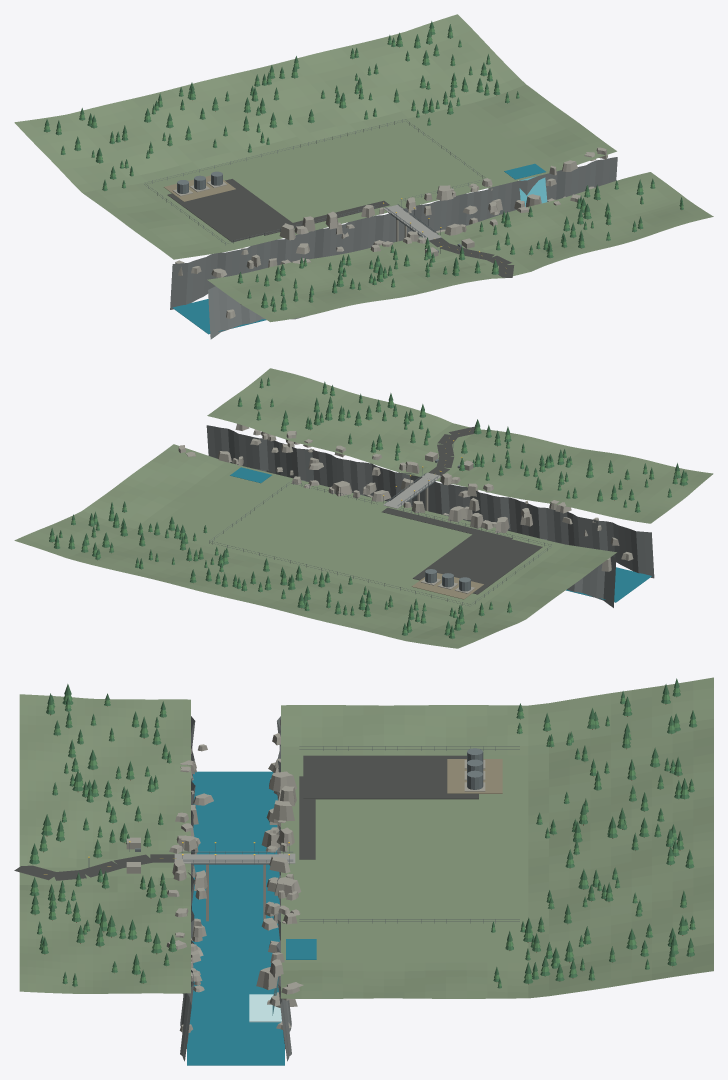
The model's file is Chimera_Environment_Proxies.fbx.
3 views of the same model, one above another, from view 1: azimuth 30°, elevation 25°; view 2: azimuth 150°, elevation 25°; view 3: azimuth 270°, elevation 25° (orthographic). The views are drawn at different scales.
Parts seen in each view (by area): view 1: ENV_TERRAIN_NORTH__WAREHOUSE_PLATEAU, ENV_TERRAIN_SOUTH__APPROACH_PLATEAU, ENV_CLIFF_NORTH__FACILITY_SIDE, ENV_WEST_SERVICE_YARD, ENV_CLIFF_SOUTH__APPROACH_SIDE, ENV_RIVER_GORGE_WATER_PROXY, ENV_UTILITY_EQUIPMENT_PAD; view 2: ENV_TERRAIN_NORTH__WAREHOUSE_PLATEAU, ENV_TERRAIN_SOUTH__APPROACH_PLATEAU, ENV_CLIFF_SOUTH__APPROACH_SIDE, ENV_WEST_SERVICE_YARD, ENV_CLIFF_NORTH__FACILITY_SIDE, ENV_RIVER_GORGE_WATER_PROXY, ENV_WEST_SERVICE_ACCESS_LANE, ENV_UTILITY_EQUIPMENT_PAD; view 3: ENV_TERRAIN_NORTH__WAREHOUSE_PLATEAU, ENV_TERRAIN_SOUTH__APPROACH_PLATEAU, ENV_RIVER_GORGE_WATER_PROXY, ENV_WEST_SERVICE_YARD, ENV_UTILITY_EQUIPMENT_PAD, ENV_WEST_SERVICE_ACCESS_LANE, ENV_CLIFF_SOUTH__APPROACH_SIDE, ENV_CLIFF_NORTH__FACILITY_SIDE, ENV_BRIDGE_DECK_MAIN, ENV_WATERFALL_SPLASH_PROXY, ENV_WATERFALL_TOP_POOL.
Part boxes in pixels (x1=…): ENV_TERRAIN_NORTH__WAREHOUSE_PLATEAU: x1=14, y1=14, x2=616, y2=259; ENV_TERRAIN_SOUTH__APPROACH_PLATEAU: x1=207, y1=172, x2=713, y2=322; ENV_CLIFF_NORTH__FACILITY_SIDE: x1=170, y1=157, x2=617, y2=309; ENV_WEST_SERVICE_YARD: x1=167, y1=179, x2=296, y2=242; ENV_CLIFF_SOUTH__APPROACH_SIDE: x1=208, y1=224, x2=471, y2=339; ENV_RIVER_GORGE_WATER_PROXY: x1=172, y1=299, x2=266, y2=334; ENV_UTILITY_EQUIPMENT_PAD: x1=164, y1=175, x2=235, y2=201; ENV_TERRAIN_NORTH__WAREHOUSE_PLATEAU: x1=14, y1=444, x2=616, y2=648; ENV_TERRAIN_SOUTH__APPROACH_PLATEAU: x1=207, y1=368, x2=713, y2=523; ENV_CLIFF_SOUTH__APPROACH_SIDE: x1=206, y1=425, x2=654, y2=578; ENV_WEST_SERVICE_YARD: x1=413, y1=531, x2=542, y2=594; ENV_CLIFF_NORTH__FACILITY_SIDE: x1=254, y1=468, x2=616, y2=607; ENV_RIVER_GORGE_WATER_PROXY: x1=566, y1=567, x2=651, y2=602; ENV_WEST_SERVICE_ACCESS_LANE: x1=382, y1=507, x2=512, y2=539; ENV_UTILITY_EQUIPMENT_PAD: x1=411, y1=573, x2=483, y2=599; ENV_TERRAIN_NORTH__WAREHOUSE_PLATEAU: x1=281, y1=677, x2=713, y2=998; ENV_TERRAIN_SOUTH__APPROACH_PLATEAU: x1=19, y1=694, x2=190, y2=993; ENV_RIVER_GORGE_WATER_PROXY: x1=187, y1=771, x2=284, y2=1065; ENV_WEST_SERVICE_YARD: x1=303, y1=755, x2=478, y2=799; ENV_UTILITY_EQUIPMENT_PAD: x1=447, y1=759, x2=502, y2=793; ENV_WEST_SERVICE_ACCESS_LANE: x1=299, y1=776, x2=315, y2=859; ENV_CLIFF_SOUTH__APPROACH_SIDE: x1=180, y1=716, x2=195, y2=1061; ENV_CLIFF_NORTH__FACILITY_SIDE: x1=276, y1=716, x2=291, y2=1061; ENV_BRIDGE_DECK_MAIN: x1=191, y1=854, x2=278, y2=863; ENV_WATERFALL_SPLASH_PROXY: x1=249, y1=994, x2=281, y2=1022; ENV_WATERFALL_TOP_POOL: x1=286, y1=939, x2=316, y2=959.
Size of the model in its own units: 34000 by 34272 by 6101.
